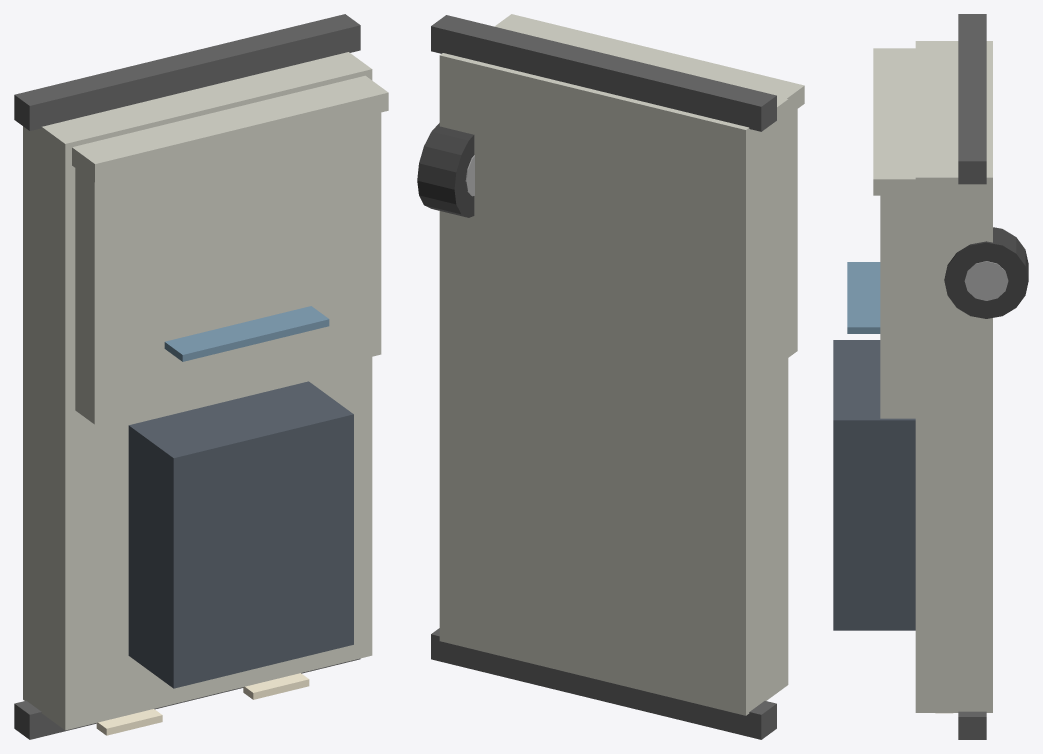
Rendered from vehicle_utility_truck.glb.
The picture shows the model from 3 angles, left to right: view 1: azimuth 30°, elevation 25°; view 2: azimuth 150°, elevation 25°; view 3: azimuth 270°, elevation 25°; orthographic projection. The views are drawn at different scales.
Visible parts, largest first — view 1: truck_bed, body, dark_cabin, rear_bumper, truck_tailgate, rear_window, front_bumper, headlight_R, headlight_L; view 2: body, rear_bumper, front_bumper, truck_tailgate, wheel_tire, truck_bed; view 3: body, dark_cabin, truck_bed, truck_tailgate, rear_bumper, wheel_tire, rear_window, wheel_hub, front_bumper.
Part boxes in pixels (x1=…): truck_bed: x1=75, y1=112, x2=381, y2=424; body: x1=23, y1=52, x2=372, y2=730; dark_cabin: x1=128, y1=381, x2=353, y2=688; rear_bumper: x1=14, y1=14, x2=360, y2=130; truck_tailgate: x1=72, y1=75, x2=388, y2=182; rear_window: x1=164, y1=306, x2=329, y2=361; front_bumper: x1=14, y1=658, x2=360, y2=739; headlight_R: x1=243, y1=673, x2=309, y2=699; headlight_L: x1=96, y1=709, x2=162, y2=735; body: x1=439, y1=53, x2=788, y2=715; rear_bumper: x1=431, y1=15, x2=776, y2=131; front_bumper: x1=431, y1=628, x2=776, y2=739; truck_tailgate: x1=495, y1=14, x2=804, y2=115; wheel_tire: x1=417, y1=123, x2=474, y2=217; truck_bed: x1=788, y1=109, x2=797, y2=357; body: x1=915, y1=41, x2=992, y2=712; dark_cabin: x1=833, y1=340, x2=915, y2=630; truck_bed: x1=880, y1=195, x2=915, y2=418; truck_tailgate: x1=873, y1=48, x2=915, y2=195; rear_bumper: x1=958, y1=14, x2=986, y2=184; wheel_tire: x1=944, y1=227, x2=1028, y2=318; rear_window: x1=847, y1=262, x2=880, y2=333; wheel_hub: x1=964, y1=261, x2=1008, y2=300; front_bumper: x1=958, y1=711, x2=986, y2=739.
Bounding box in the file's own units: 2.48 × 4.56 × 1.39.
